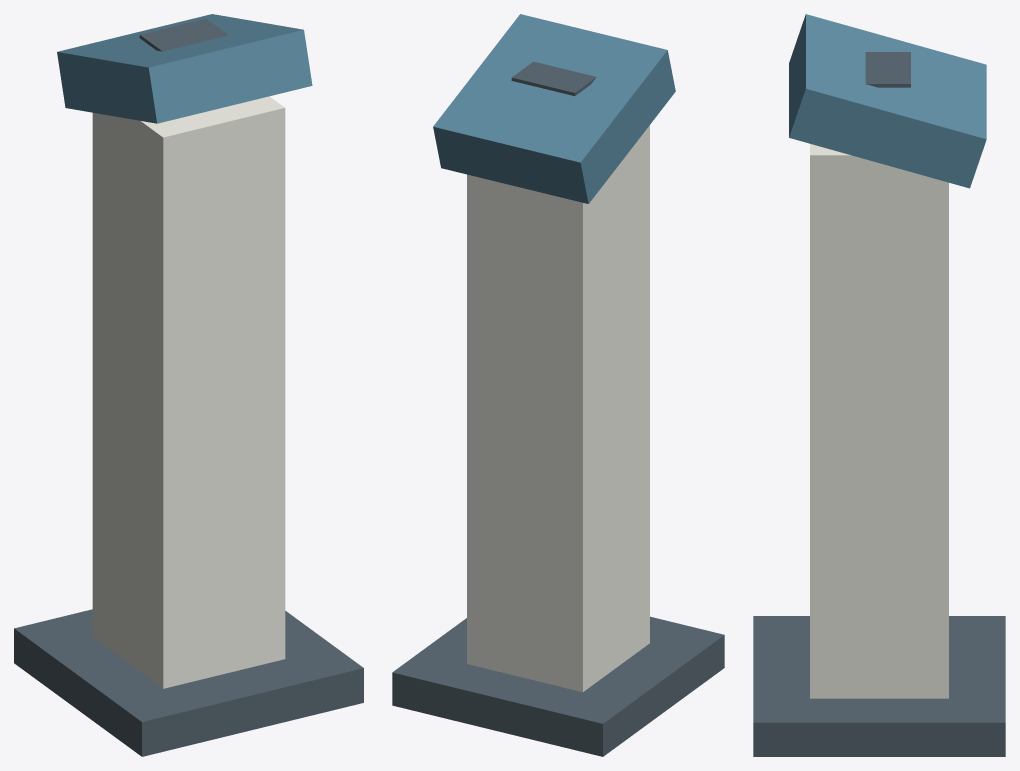
The model's file is american-football-stadium-kit-ticket-scan-pedestal-dbcf96cf.glb.
3 views of the same model, side by side, from view 1: azimuth 30°, elevation 25°; view 2: azimuth 150°, elevation 25°; view 3: azimuth 270°, elevation 25° (orthographic). The views are drawn at different scales.
Parts seen in each view (by area): view 1: ticket-scan-pedestal; view 2: ticket-scan-pedestal; view 3: ticket-scan-pedestal.
Boxes of the visible parts, x1,y1,x2,y2 form: ticket-scan-pedestal: [14, 14, 363, 756]; ticket-scan-pedestal: [392, 14, 724, 756]; ticket-scan-pedestal: [753, 14, 1005, 756].
Size of the model in its own units: 0.4 by 1.14 by 0.4.
